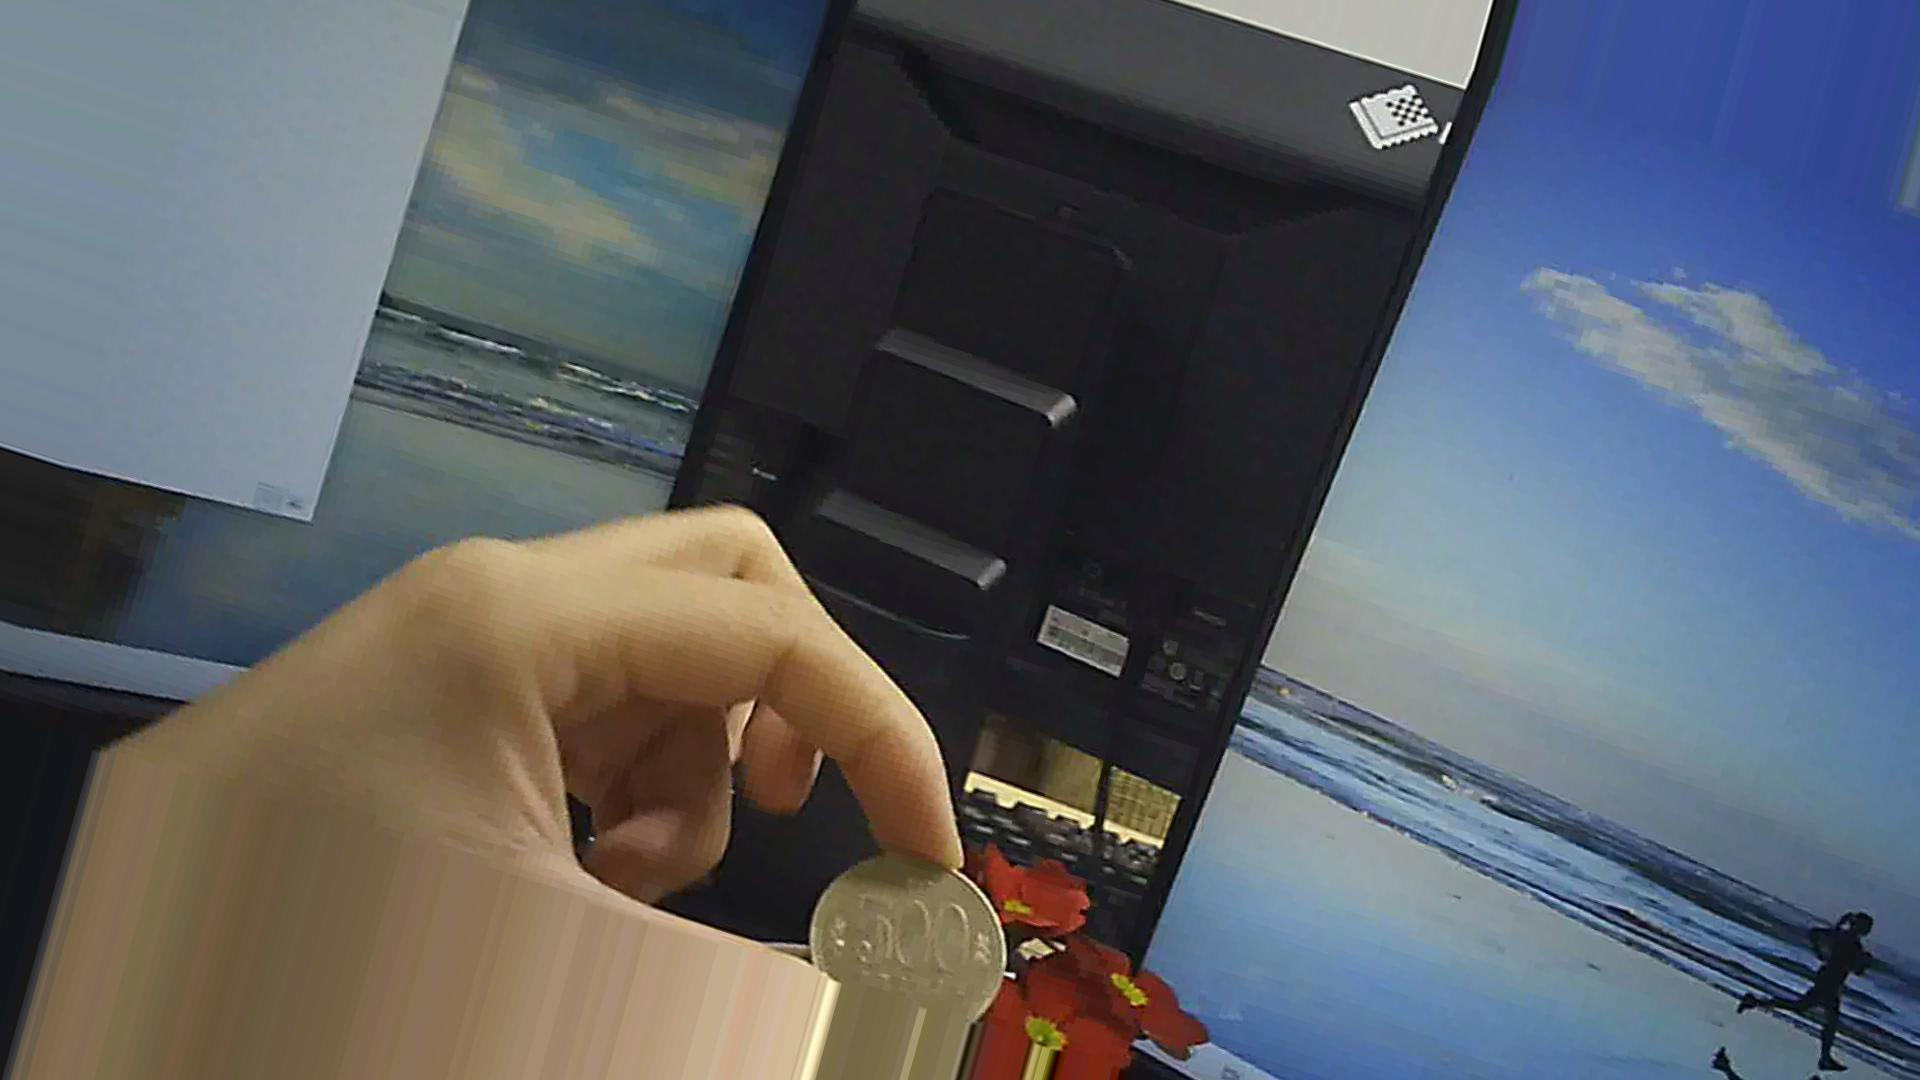500 Yen: (803, 849, 1015, 1044)
